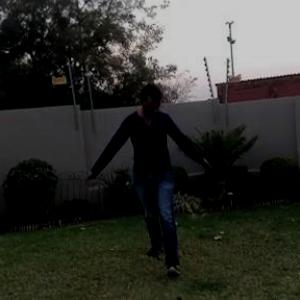land: (84, 78, 214, 273)
